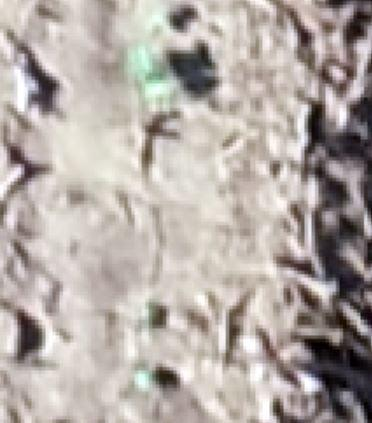cotton: (128, 52, 161, 81), (146, 79, 172, 103), (146, 11, 164, 30), (138, 369, 157, 387)
